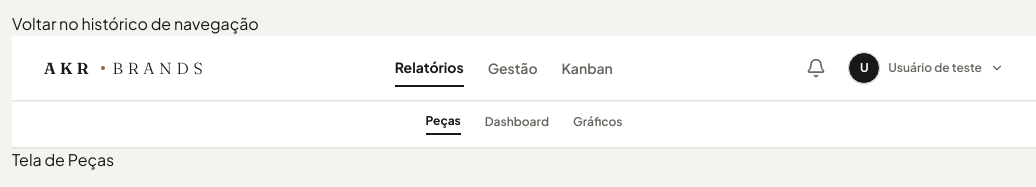
Test: Submenu horizontal de Relatórios › preserva marca e coleção entre as abas de Relatórios
Click the link "Dashboard" at (517, 124), box [485, 114, 549, 134]
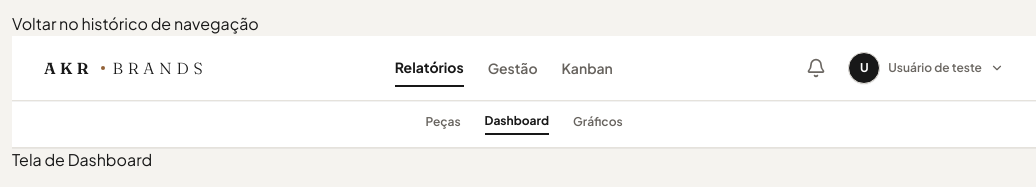
Expected: the heading "Tela de Dashboard" is shown, [12, 149, 152, 170]
